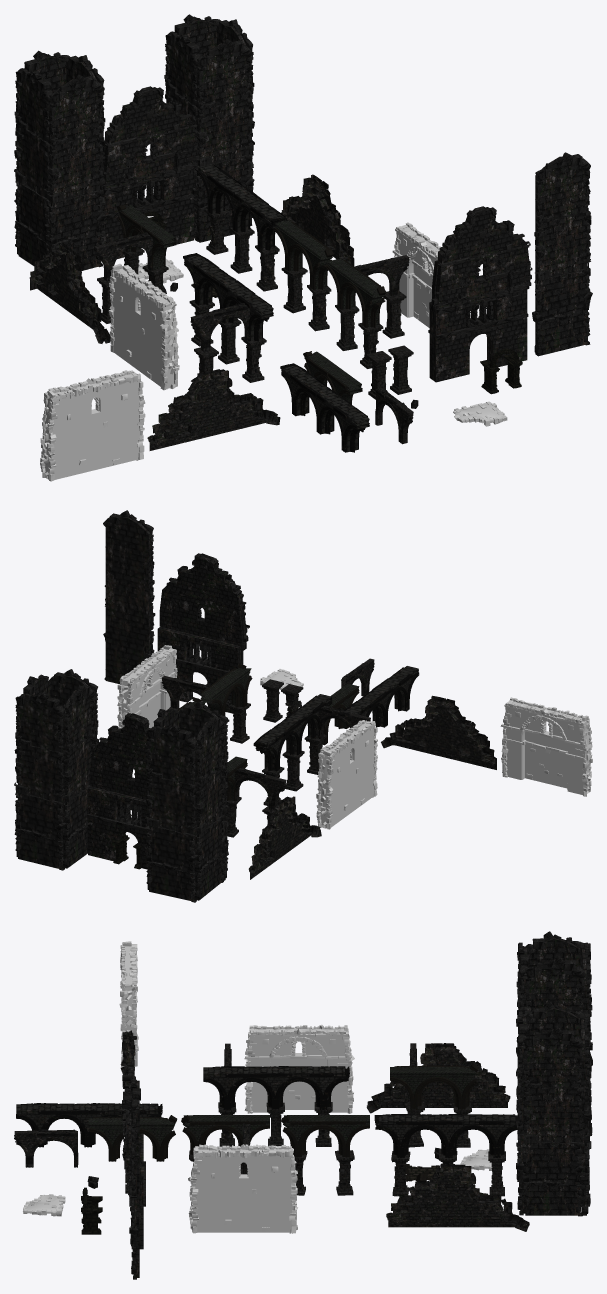
Rendered from Sketchfab_2023_06_17_17_43_30.fbx.
The picture shows the model from 3 angles, top to bottom: view 1: azimuth 30°, elevation 25°; view 2: azimuth 150°, elevation 25°; view 3: azimuth 270°, elevation 25°; orthographic projection. The views are drawn at different scales.
Visible parts, largest first — view 1: FACADE, FACADE.001, TOWER_FACADE, TOWER_FACADE.007, RUINED_WALL, TOWER_FACADE.001, RUINED_WALL.001, TOWER_FACADE.008, SMALL_RUINED_WALL, SMALL_RUINED_WALL.001, ARCH_LONG, ARCH_LONG.001 (+29 smaller); view 2: FACADE, TOWER_FACADE.005, TOWER_FACADE.003, TOWER_FACADE, FACADE.001, RUINED_WALL, TOWER_FACADE.008, RUINED_WALL.001, TOWER_FACADE.002, SMALL_RUINED_WALL, RUINED_WALL.002, SMALL_RUINED_WALL.001 (+13 smaller); view 3: TOWER_FACADE.004, RUINED_WALL.002, RUINED_WALL.001, SMALL_RUINED_WALL.002, ARCH_LONG.002, ARCH_LONG.001, SMALL_RUINED_WALL.001, ARCH_LONG, TOWER_FACADE.006, ARCHS_SHORT.001, ARCHS_SHORT.002, ARCHS_SHORT (+20 smaller).
Boxes of the visible parts, x1,y1,x2,y2 form: FACADE: (428, 206, 532, 382); FACADE.001: (100, 86, 199, 258); TOWER_FACADE: (532, 152, 592, 356); TOWER_FACADE.007: (45, 74, 105, 270); RUINED_WALL: (40, 370, 145, 481); TOWER_FACADE.001: (193, 39, 254, 242); RUINED_WALL.001: (108, 263, 179, 390); TOWER_FACADE.008: (14, 69, 52, 265); SMALL_RUINED_WALL: (147, 369, 280, 450); SMALL_RUINED_WALL.001: (29, 242, 110, 343); ARCH_LONG: (280, 363, 369, 452); ARCH_LONG.001: (197, 164, 286, 250); FACADE: (157, 553, 249, 713); TOWER_FACADE.005: (145, 724, 198, 902); TOWER_FACADE.003: (14, 692, 66, 870); TOWER_FACADE: (103, 510, 155, 683); FACADE.001: (87, 713, 150, 869); RUINED_WALL: (500, 697, 592, 796); TOWER_FACADE.008: (194, 716, 227, 900); RUINED_WALL.001: (316, 720, 377, 829); TOWER_FACADE.002: (62, 685, 95, 868); SMALL_RUINED_WALL: (381, 695, 496, 769); RUINED_WALL.002: (117, 645, 177, 729); SMALL_RUINED_WALL.001: (248, 796, 321, 879); TOWER_FACADE.004: (522, 1026, 583, 1216); RUINED_WALL.002: (188, 1144, 297, 1233); RUINED_WALL.001: (244, 1024, 354, 1113); SMALL_RUINED_WALL.002: (386, 1163, 529, 1231); ARCH_LONG.002: (203, 1066, 349, 1109); ARCH_LONG.001: (374, 1114, 517, 1157); SMALL_RUINED_WALL.001: (366, 1043, 510, 1113); ARCH_LONG: (16, 1103, 162, 1147); TOWER_FACADE.006: (525, 956, 585, 1013); ARCHS_SHORT.001: (390, 1063, 478, 1110); ARCHS_SHORT.002: (281, 1115, 369, 1157); ARCHS_SHORT: (88, 1115, 177, 1161).
Bounding box in the file's own units: 10205 × 3522 × 9656.
